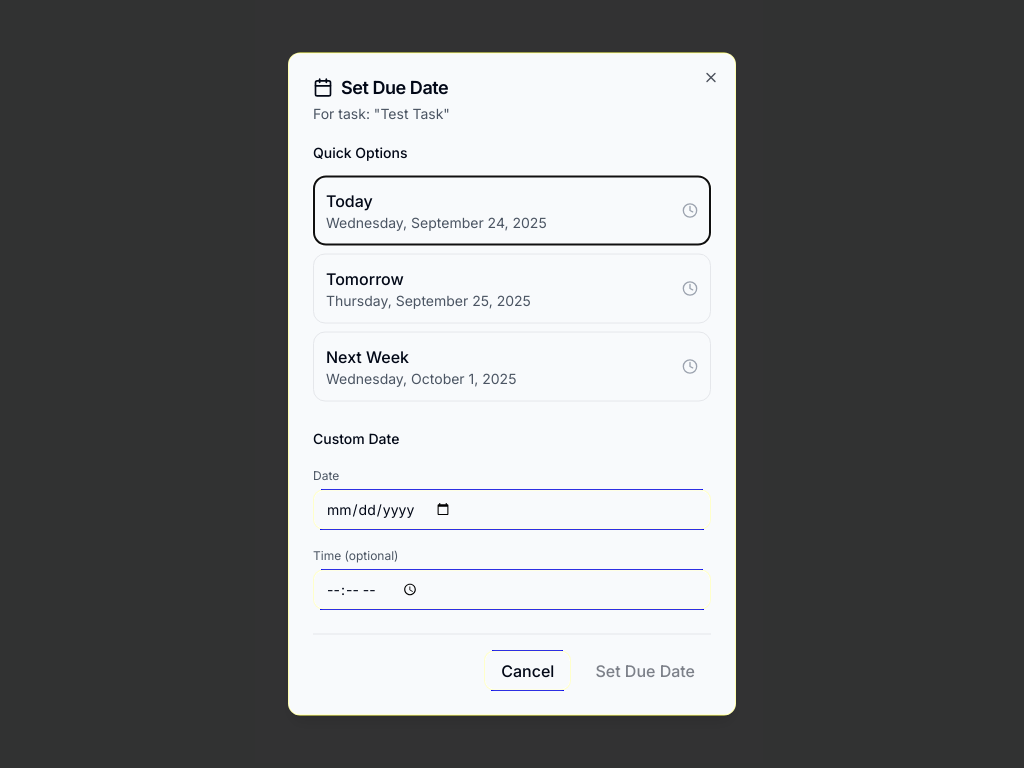
Scenario: DueDatePicker › shows selected date preview
The width and height of the screenshot is (1024, 768).
What coordinates should you click on to do the following:
click the text "Today"
I would click on:
 (349, 200)
Its box is [326,190,373,210].
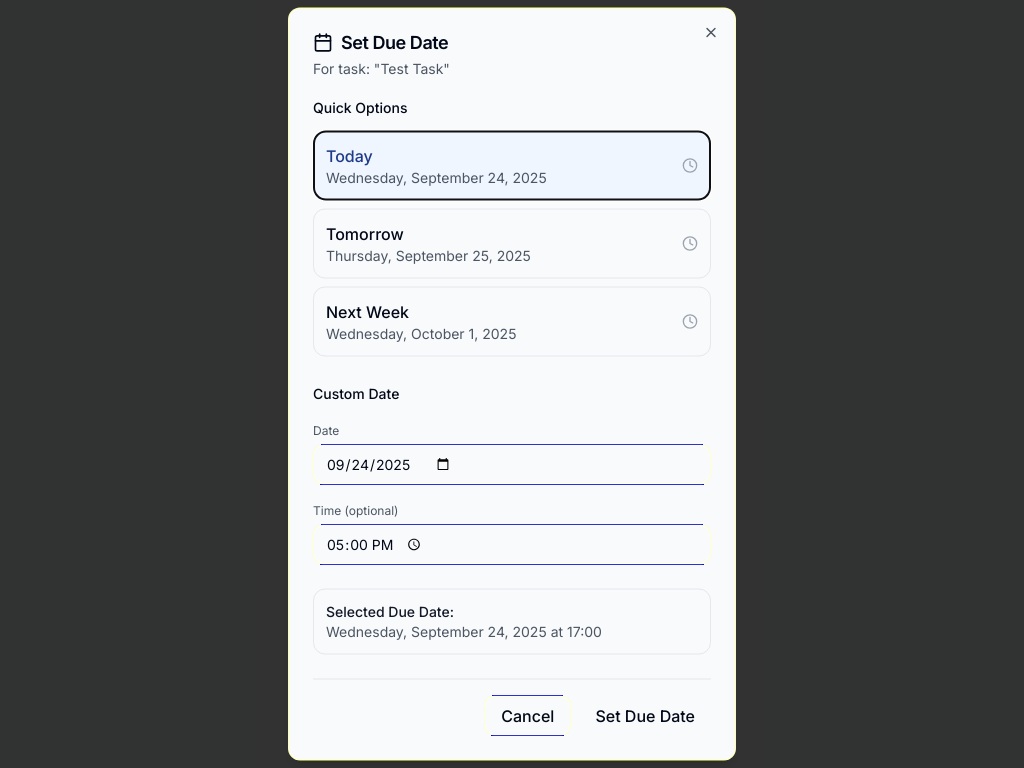
expect the text "Selected Due Date:" is shown: met, box [326,602,454,620]
